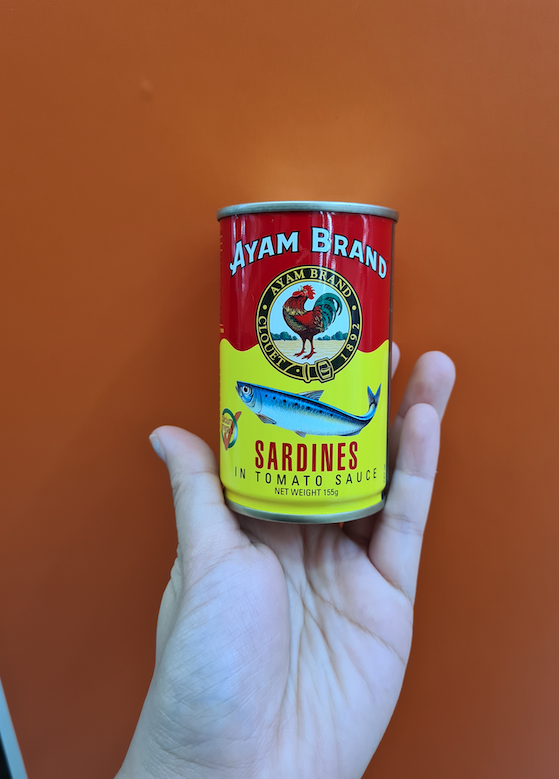Canned_Sardines_and_Mackerel: (194, 194, 401, 528)
